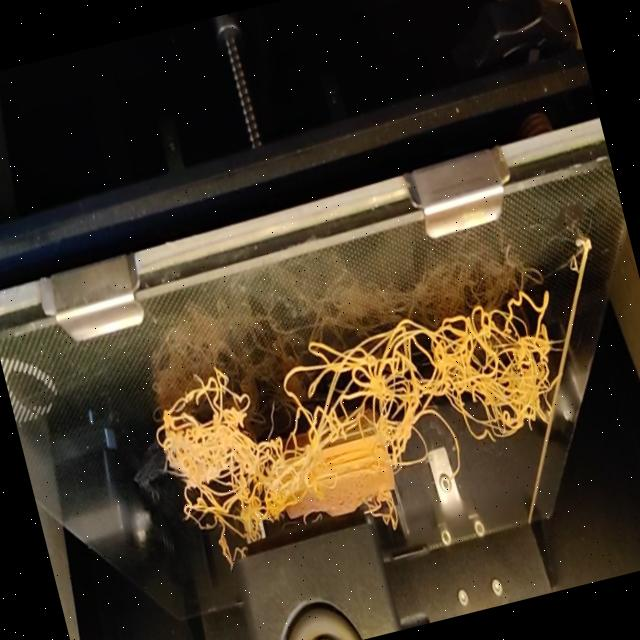spaghetti: (144, 284, 593, 570)
